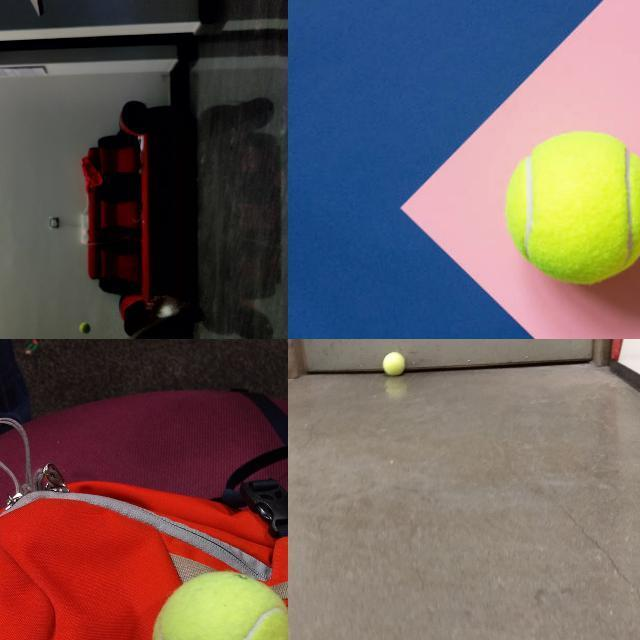tennis-ball: (504, 129, 639, 286), (151, 570, 287, 639), (382, 351, 406, 375), (78, 322, 90, 334)
